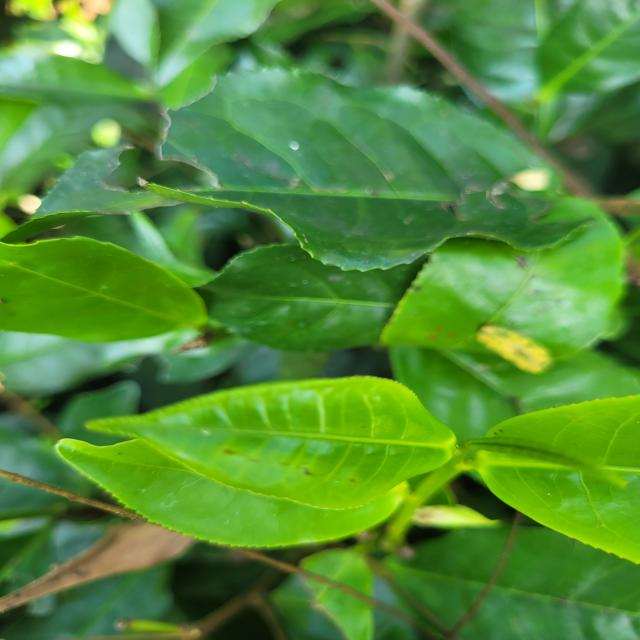Catagory A(1-2 days): (81, 366, 472, 518)
